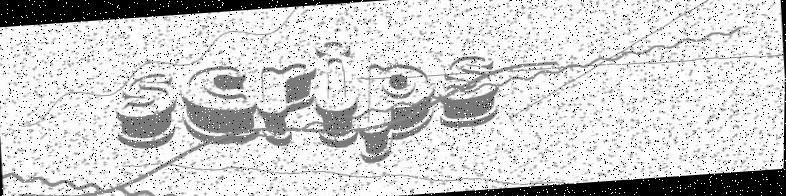c: (176, 64, 261, 149)
i: (309, 40, 362, 151)
p: (351, 60, 440, 167)
r: (253, 62, 320, 150)
s: (113, 71, 181, 151), (435, 54, 502, 130)
